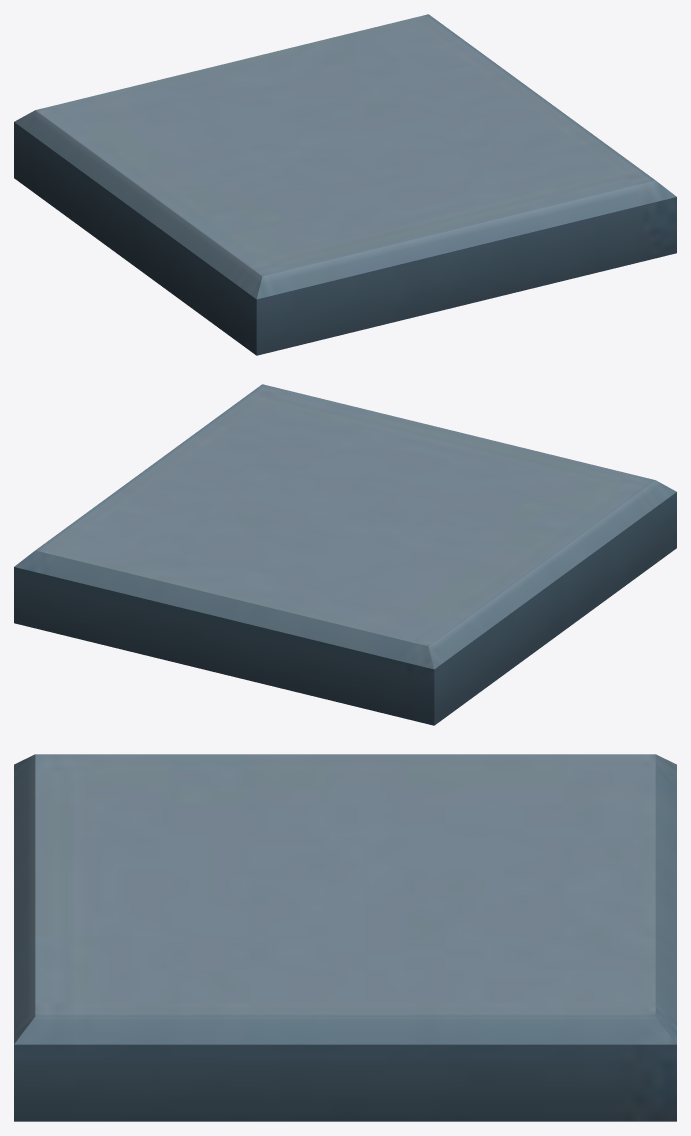
The model's file is ice-platform.glb.
The picture shows the model from 3 angles, top to bottom: view 1: azimuth 30°, elevation 25°; view 2: azimuth 150°, elevation 25°; view 3: azimuth 270°, elevation 25°; orthographic projection. The views are drawn at different scales.
Parts seen in each view (by area): view 1: ice-platform; view 2: ice-platform; view 3: ice-platform.
Boxes of the visible parts, x1,y1,x2,y2 form: ice-platform: (14, 14, 676, 355); ice-platform: (14, 384, 676, 725); ice-platform: (14, 754, 676, 1121).
Bounding box in the file's own units: 0.25 × 0.04 × 0.25.
1 material, 1 textured.
